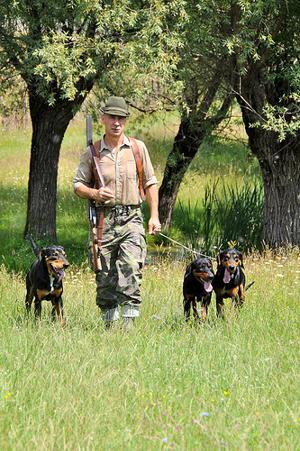person: (75, 95, 161, 329)
